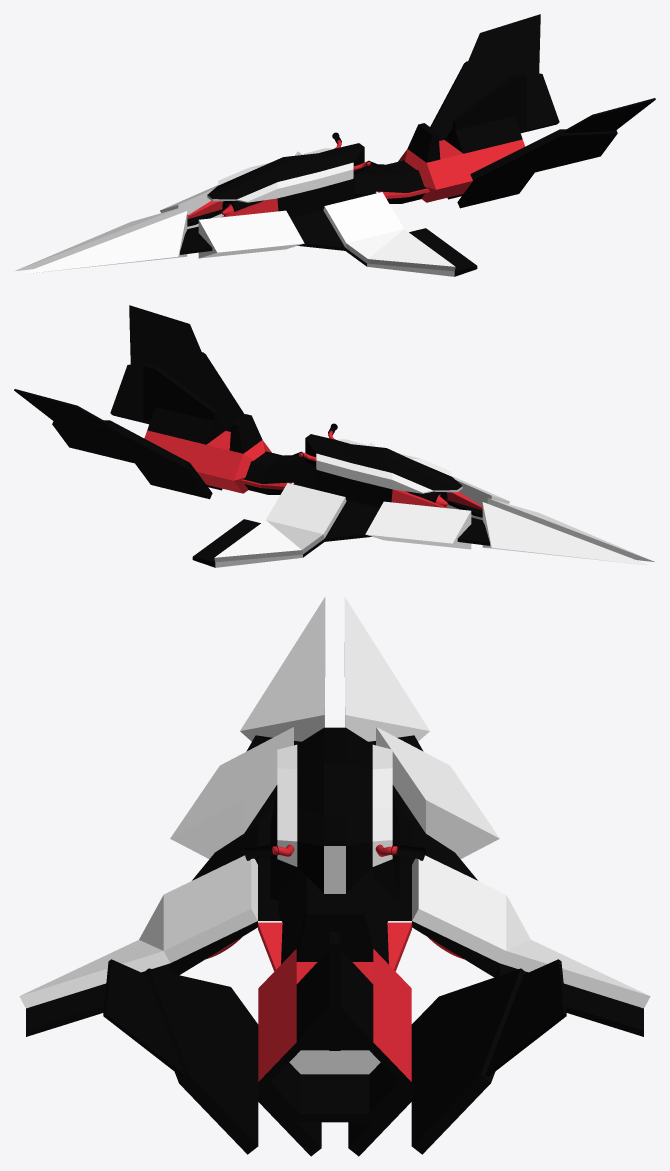
The model's file is hover.fbx.
3 renders of one model, top to bottom at view 1: azimuth 30°, elevation 25°; view 2: azimuth 150°, elevation 25°; view 3: azimuth 270°, elevation 25°, orthographic. The views are drawn at different scales.
Parts seen in each view (by area): view 1: Cylinder.004; view 2: Cylinder.004; view 3: Cylinder.004.
Boxes of the visible parts, x1,y1,x2,y2 form: Cylinder.004: (14, 14, 655, 276); Cylinder.004: (14, 305, 654, 567); Cylinder.004: (19, 597, 650, 1156).
Size of the model in its own units: 1359 by 252 by 639.
